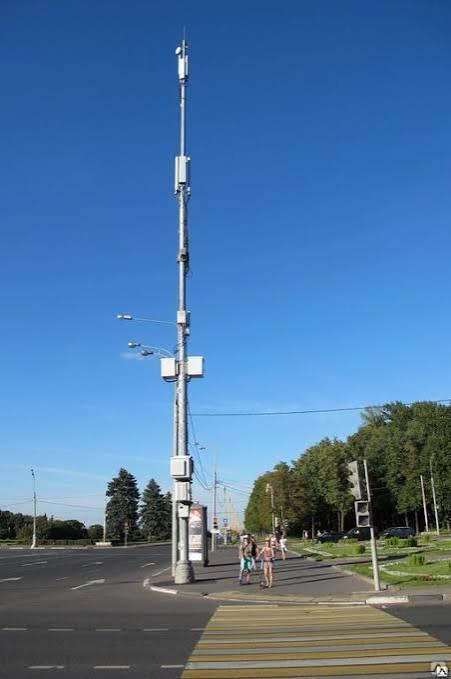odn_pole: (172, 27, 194, 584)
